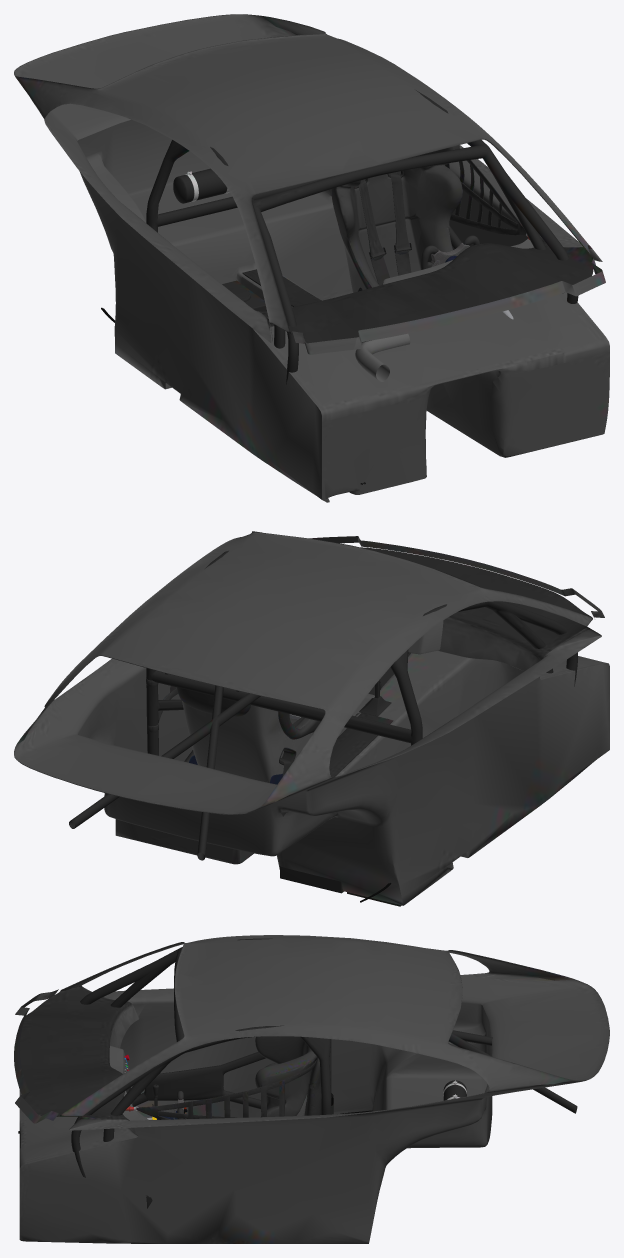
The model's file is gt_m4_int.glb.
3 views of the same model, one above another, from view 1: azimuth 30°, elevation 25°; view 2: azimuth 150°, elevation 25°; view 3: azimuth 270°, elevation 25° (orthographic). The views are drawn at different scales.
Visible parts, largest first — view 1: Interior-Interior_n3d, Interior-RollCage_n3d, Inside-SeatAlcantara_n3d, Inside-SeatBel-Nylon_n3d, Inside-NetNylon_n3d, Interior-FireExtinguisher-BlackPaint_n3d, Inside-CarbonFiber_n3d; view 2: Interior-Interior_n3d, Interior-RollCage_n3d, Inside-SeatCarbonFiber_n3d, Interior-Blackbox_n3d, Inside-SeatFabric_n3d, Inside-SeatAlcantara_n3d, Interior-DashPanel_n3d; view 3: Interior-Interior_n3d, Interior-RollCage_n3d, Inside-SeatAlcantara_n3d, Inside-NetNylon_n3d, Inside-SeatFabric_n3d, Interior-DashPanel_n3d.
Boxes of the visible parts, x1,y1,x2,y2 form: Interior-Interior_n3d: (14, 14, 609, 502); Interior-RollCage_n3d: (146, 90, 578, 384); Inside-SeatAlcantara_n3d: (331, 145, 462, 289); Inside-SeatBel-Nylon_n3d: (358, 173, 411, 285); Inside-NetNylon_n3d: (445, 148, 526, 235); Interior-FireExtinguisher-BlackPaint_n3d: (173, 168, 227, 203); Inside-CarbonFiber_n3d: (355, 333, 410, 381); Interior-Interior_n3d: (14, 531, 609, 905); Interior-RollCage_n3d: (69, 550, 577, 860); Inside-SeatCarbonFiber_n3d: (182, 701, 313, 782); Interior-Blackbox_n3d: (280, 866, 401, 906); Inside-SeatFabric_n3d: (177, 687, 250, 716); Inside-SeatAlcantara_n3d: (278, 711, 320, 757); Interior-DashPanel_n3d: (408, 621, 443, 654); Interior-Interior_n3d: (14, 935, 609, 1243); Interior-RollCage_n3d: (71, 938, 577, 1208); Inside-SeatAlcantara_n3d: (255, 1036, 316, 1116); Inside-NetNylon_n3d: (137, 1060, 316, 1119); Inside-SeatFabric_n3d: (305, 1057, 321, 1115); Interior-DashPanel_n3d: (109, 1045, 148, 1120).
Size of the model in its own units: 1.64 by 1.17 by 3.01.
Materials: 2 (2 with a texture image).
